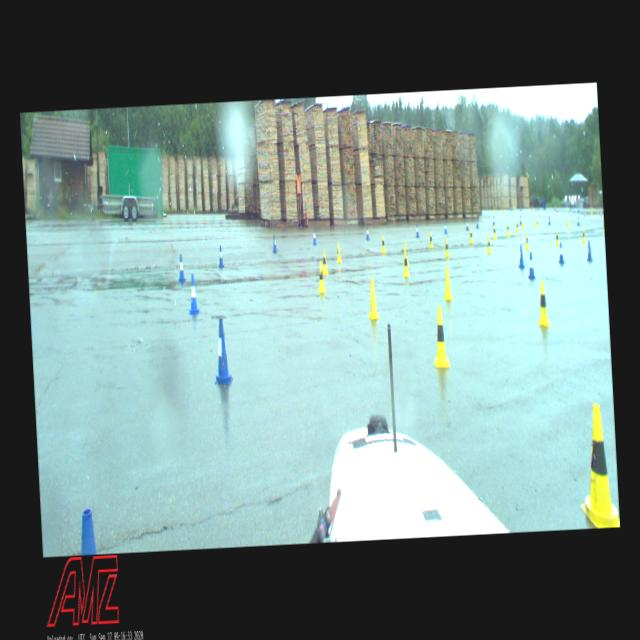blue_cone: (212, 318, 234, 384), (188, 274, 200, 314), (178, 254, 185, 281), (522, 230, 529, 256), (528, 250, 534, 278), (586, 240, 593, 262), (518, 244, 524, 269), (218, 245, 224, 268), (558, 241, 564, 264), (272, 235, 277, 253), (312, 228, 316, 245), (366, 226, 370, 240), (416, 225, 420, 238), (444, 222, 448, 234), (466, 220, 468, 230), (476, 218, 478, 228), (493, 216, 495, 226), (577, 216, 579, 224)
yellow_cone: (576, 402, 620, 528), (431, 306, 451, 368), (536, 281, 551, 328), (366, 277, 380, 319), (442, 266, 452, 300), (316, 262, 326, 292), (402, 250, 409, 278), (322, 250, 328, 275), (402, 243, 408, 265), (336, 242, 342, 262), (444, 238, 450, 256), (469, 228, 474, 244), (487, 235, 491, 252), (524, 233, 528, 250), (429, 232, 433, 248), (381, 235, 385, 251), (582, 229, 585, 242), (506, 222, 509, 235), (493, 225, 496, 238), (516, 220, 519, 231), (556, 231, 558, 246), (522, 220, 524, 228)
